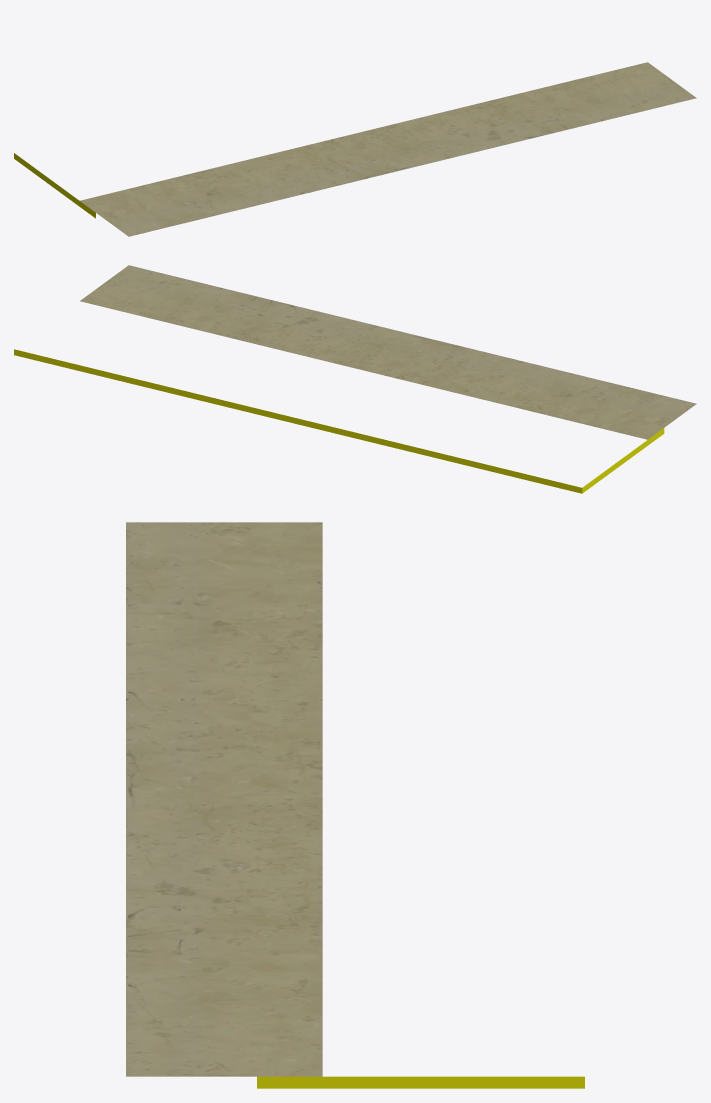
The model's file is trim-90angle-topcover.glb.
The picture shows the model from 3 angles, top to bottom: view 1: azimuth 30°, elevation 25°; view 2: azimuth 150°, elevation 25°; view 3: azimuth 270°, elevation 25°; orthographic projection. The views are drawn at different scales.
Visible parts, largest first — view 1: Trim_90Angle_TopCover; view 2: Trim_90Angle_TopCover; view 3: Trim_90Angle_TopCover.
Part boxes in pixels (x1=…): Trim_90Angle_TopCover: x1=14, y1=62, x2=696, y2=236; Trim_90Angle_TopCover: x1=14, y1=265, x2=696, y2=493; Trim_90Angle_TopCover: x1=126, y1=522, x2=584, y2=1088.
Bounding box in the file's own units: 2 × 0.02 × 0.7.
2 materials, 1 textured.
